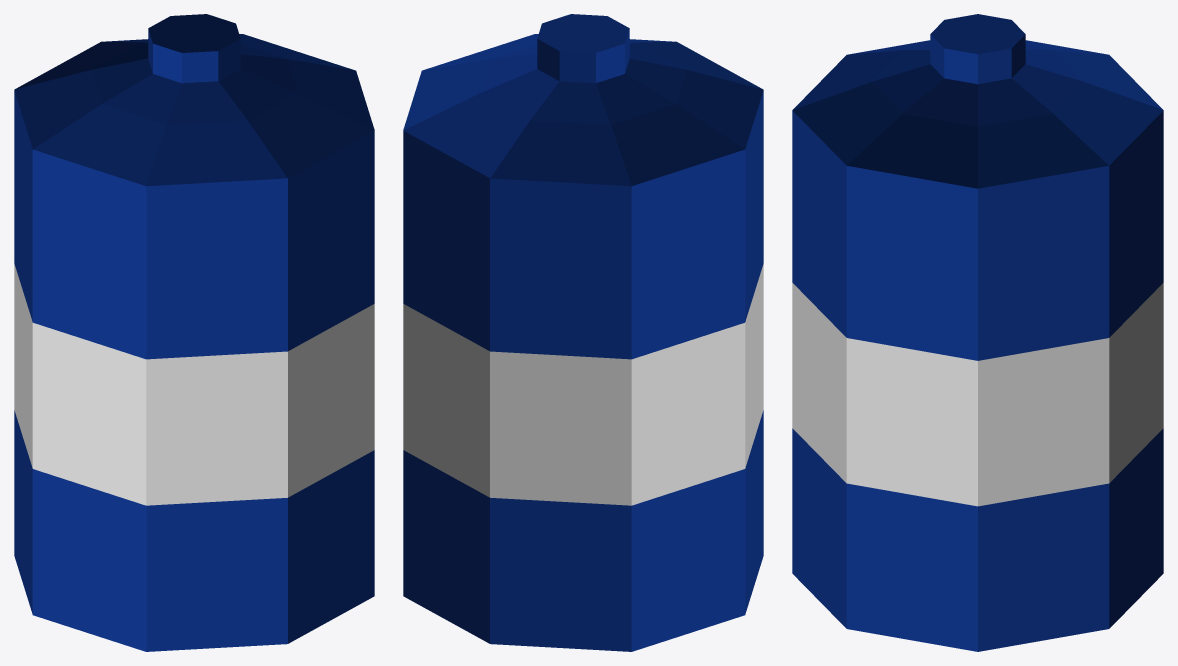
File: Insulated Container.fbx
The picture shows the model from 3 angles, left to right: view 1: azimuth 30°, elevation 25°; view 2: azimuth 150°, elevation 25°; view 3: azimuth 270°, elevation 25°; orthographic projection.
Visible parts, largest first — view 1: Node 0; view 2: Node 0; view 3: Node 0.
Boxes of the visible parts, box(x1,y1,x2,y2) form: Node 0: box(14, 14, 374, 651); Node 0: box(403, 14, 763, 651); Node 0: box(792, 14, 1163, 651).
Size of the model in its own units: 0.1717 by 0.2751 by 0.1717.
